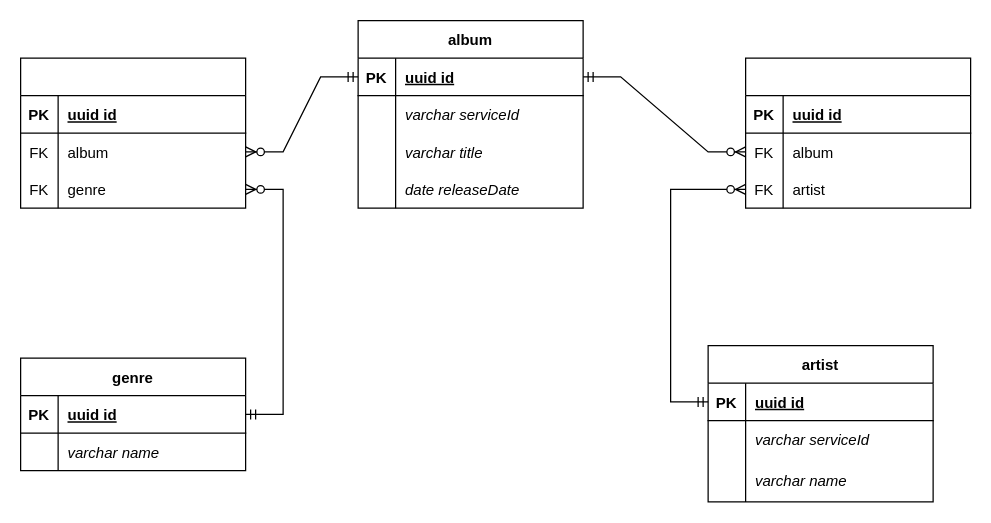
Some shapes in this 991 by 523 pixel diagram are drawn without their labels. Here are the shapes that lost their labels. From the top down, the box of each, then its label:
(19, 57, 246, 208): album-genre
(744, 57, 971, 208): album-artist
